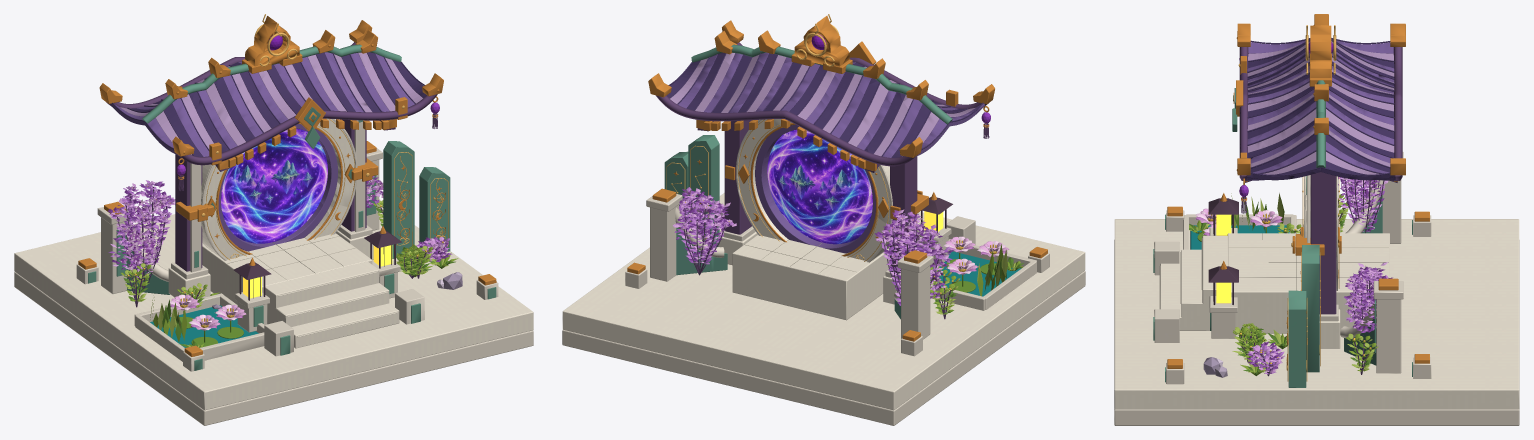
The model's file is secret-lod0-3b368e128bf2.glb.
The picture shows the model from 3 angles, left to right: view 1: azimuth 30°, elevation 25°; view 2: azimuth 150°, elevation 25°; view 3: azimuth 270°, elevation 25°; orthographic projection. The views are drawn at different scales.
Visible parts, largest first — view 1: GEO-export-MAT-secret-stone-light.008, GEO-export-MAT-secret-ivory.008, GEO-export-MAT-secret-gold.008, GEO-export-MAT-secret-jade-light.008, GEO-export-MAT-secret-portal-field.008, GEO-export-MAT-secret-roof-purple-0.008, GEO-export-MAT-secret-roof-purple-2.008, GEO-export-MAT-secret-purple-wood.008, GEO-export-MAT-secret-roof-purple-1.008, GEO-export-MAT-secret-gold-edge.008, GEO-export-MAT-secret-bloom-foliage-3.008, GEO-export-MAT-secret-bloom-foliage-2.008 (+11 smaller); view 2: GEO-export-MAT-secret-stone-light.008, GEO-export-MAT-secret-ivory.008, GEO-export-MAT-secret-portal-field.008, GEO-export-MAT-secret-gold.008, GEO-export-MAT-secret-roof-purple-0.008, GEO-export-MAT-secret-purple-wood.008, GEO-export-MAT-secret-roof-purple-2.008, GEO-export-MAT-secret-roof-purple-1.008, GEO-export-MAT-secret-jade-light.008, GEO-export-MAT-secret-bloom-foliage-2.008, GEO-export-MAT-secret-bloom-foliage-3.008, GEO-export-MAT-secret-bloom-foliage-1.008 (+7 smaller); view 3: GEO-export-MAT-secret-stone-light.008, GEO-export-MAT-secret-ivory.008, GEO-export-MAT-secret-roof-purple-2.008, GEO-export-MAT-secret-roof-purple-0.008, GEO-export-MAT-secret-purple-wood.008, GEO-export-MAT-secret-roof-purple-1.008, GEO-export-MAT-secret-gold.008, GEO-export-MAT-secret-jade-light.008, GEO-export-MAT-secret-bloom-foliage-3.008, GEO-export-MAT-secret-gold-edge.008, GEO-export-MAT-secret-bloom-foliage-0.008, GEO-export-MAT-secret-dark-bronze.008 (+8 smaller).
Boxes of the visible parts, x1=… form: GEO-export-MAT-secret-stone-light.008: x1=14, y1=118, x2=533, y2=410; GEO-export-MAT-secret-ivory.008: x1=14, y1=119, x2=533, y2=425; GEO-export-MAT-secret-gold.008: x1=78, y1=16, x2=496, y2=356; GEO-export-MAT-secret-jade-light.008: x1=88, y1=44, x2=496, y2=370; GEO-export-MAT-secret-portal-field.008: x1=221, y1=128, x2=327, y2=243; GEO-export-MAT-secret-roof-purple-0.008: x1=110, y1=52, x2=414, y2=251; GEO-export-MAT-secret-roof-purple-2.008: x1=112, y1=52, x2=426, y2=156; GEO-export-MAT-secret-purple-wood.008: x1=106, y1=42, x2=439, y2=307; GEO-export-MAT-secret-roof-purple-1.008: x1=120, y1=52, x2=422, y2=154; GEO-export-MAT-secret-gold-edge.008: x1=201, y1=14, x2=448, y2=260; GEO-export-MAT-secret-bloom-foliage-3.008: x1=110, y1=179, x2=443, y2=274; GEO-export-MAT-secret-bloom-foliage-2.008: x1=109, y1=179, x2=449, y2=277; GEO-export-MAT-secret-stone-light.008: x1=562, y1=119, x2=1085, y2=410; GEO-export-MAT-secret-ivory.008: x1=562, y1=119, x2=1085, y2=425; GEO-export-MAT-secret-portal-field.008: x1=767, y1=129, x2=872, y2=244; GEO-export-MAT-secret-gold.008: x1=627, y1=15, x2=1047, y2=341; GEO-export-MAT-secret-roof-purple-0.008: x1=678, y1=52, x2=984, y2=253; GEO-export-MAT-secret-purple-wood.008: x1=656, y1=42, x2=989, y2=319; GEO-export-MAT-secret-roof-purple-2.008: x1=666, y1=52, x2=983, y2=157; GEO-export-MAT-secret-roof-purple-1.008: x1=670, y1=53, x2=974, y2=156; GEO-export-MAT-secret-jade-light.008: x1=664, y1=44, x2=952, y2=246; GEO-export-MAT-secret-bloom-foliage-2.008: x1=675, y1=187, x2=950, y2=301; GEO-export-MAT-secret-bloom-foliage-3.008: x1=673, y1=188, x2=949, y2=298; GEO-export-MAT-secret-bloom-foliage-1.008: x1=674, y1=190, x2=952, y2=305; GEO-export-MAT-secret-stone-light.008: x1=1114, y1=175, x2=1519, y2=409; GEO-export-MAT-secret-ivory.008: x1=1114, y1=152, x2=1519, y2=425; GEO-export-MAT-secret-roof-purple-2.008: x1=1246, y1=38, x2=1397, y2=180; GEO-export-MAT-secret-roof-purple-0.008: x1=1247, y1=39, x2=1394, y2=173; GEO-export-MAT-secret-purple-wood.008: x1=1239, y1=47, x2=1402, y2=376; GEO-export-MAT-secret-roof-purple-1.008: x1=1246, y1=41, x2=1395, y2=180; GEO-export-MAT-secret-gold.008: x1=1167, y1=14, x2=1429, y2=368; GEO-export-MAT-secret-jade-light.008: x1=1153, y1=80, x2=1412, y2=387; GEO-export-MAT-secret-bloom-foliage-3.008: x1=1248, y1=178, x2=1388, y2=368; GEO-export-MAT-secret-gold-edge.008: x1=1238, y1=25, x2=1339, y2=381; GEO-export-MAT-secret-bloom-foliage-0.008: x1=1247, y1=176, x2=1392, y2=368; GEO-export-MAT-secret-dark-bronze.008: x1=1208, y1=198, x2=1238, y2=304.
Size of the model in its own units: 10 by 8.59 by 10.
Materials: 44 (7 with a texture image).
